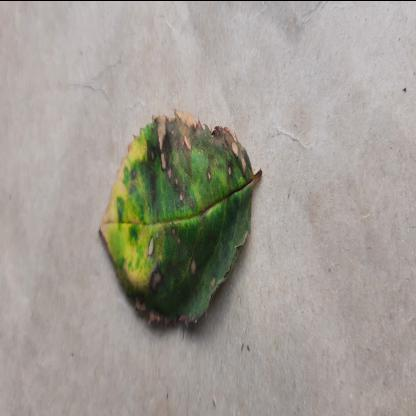powdery-mildew: (96, 104, 256, 338)
